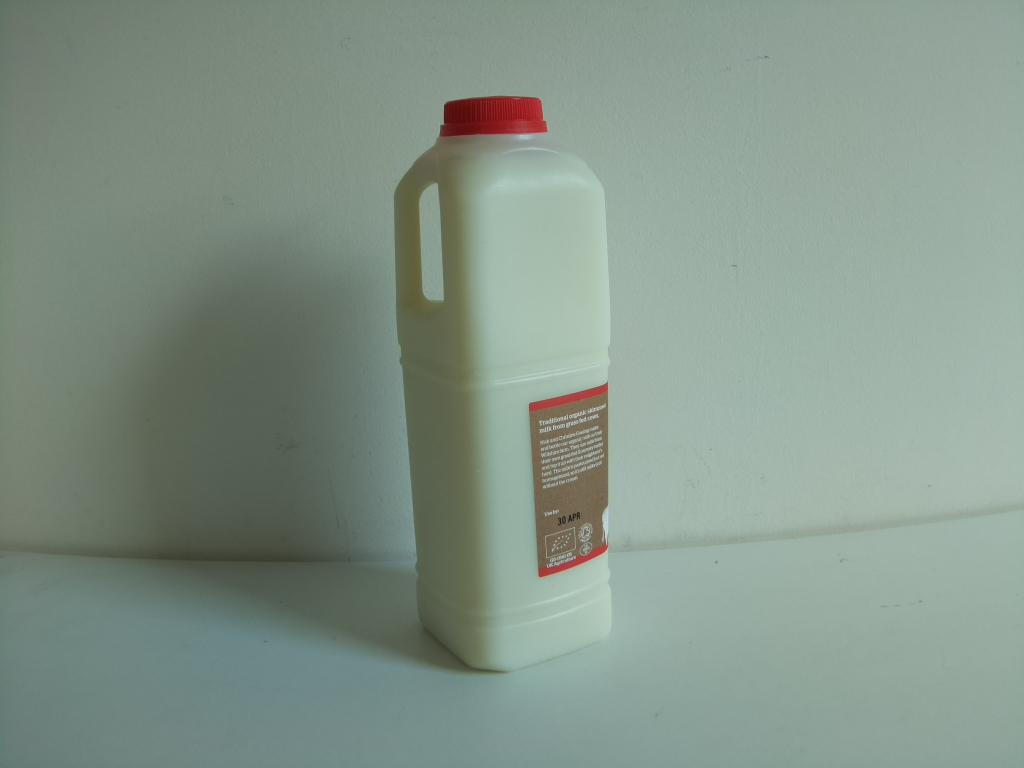milk: (389, 89, 629, 680)
